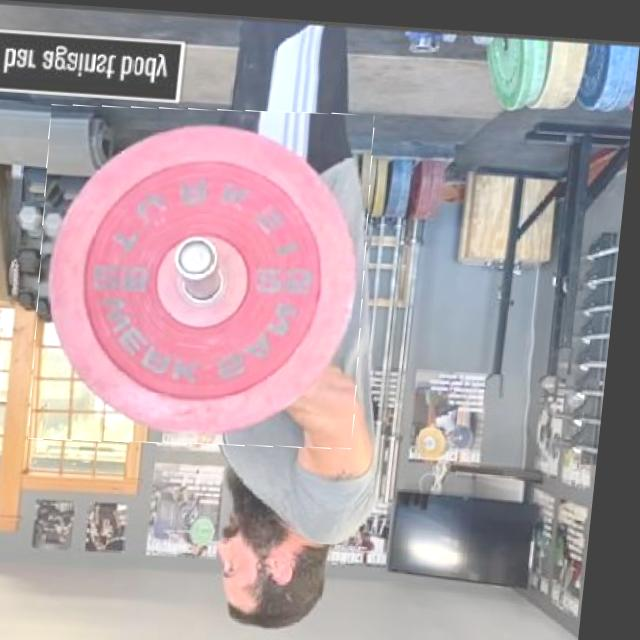barbell: (31, 97, 386, 452)
